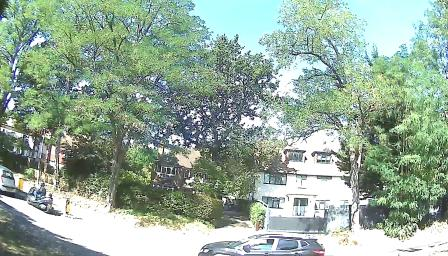Cars: (192, 216, 338, 256)
